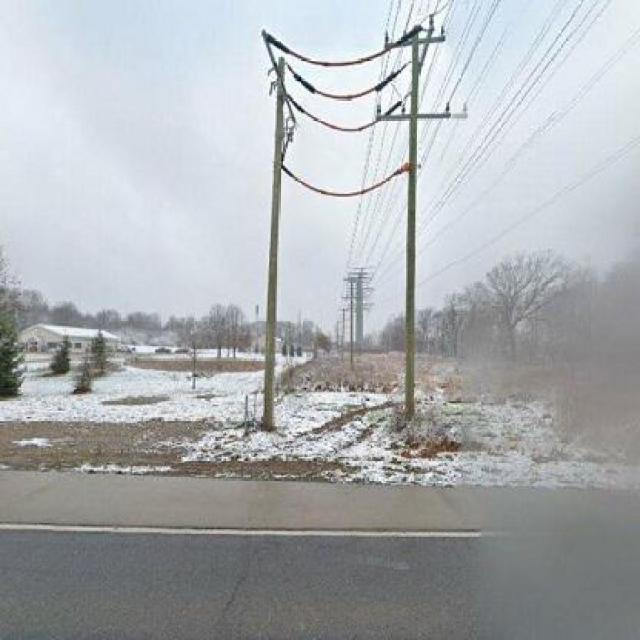pole: (362, 18, 472, 417), (244, 15, 334, 431)
